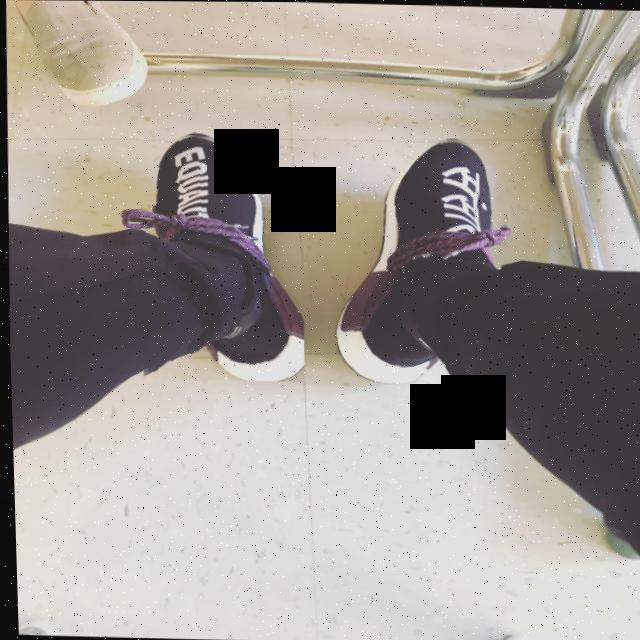shoe: (322, 133, 505, 390), (124, 130, 306, 381)
